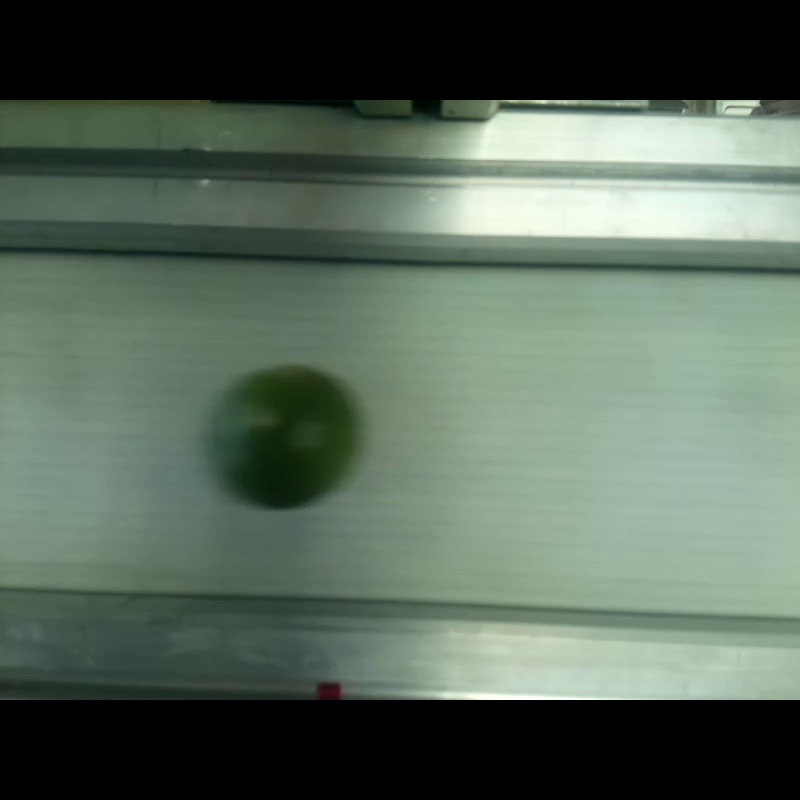lime: (209, 366, 356, 507)
